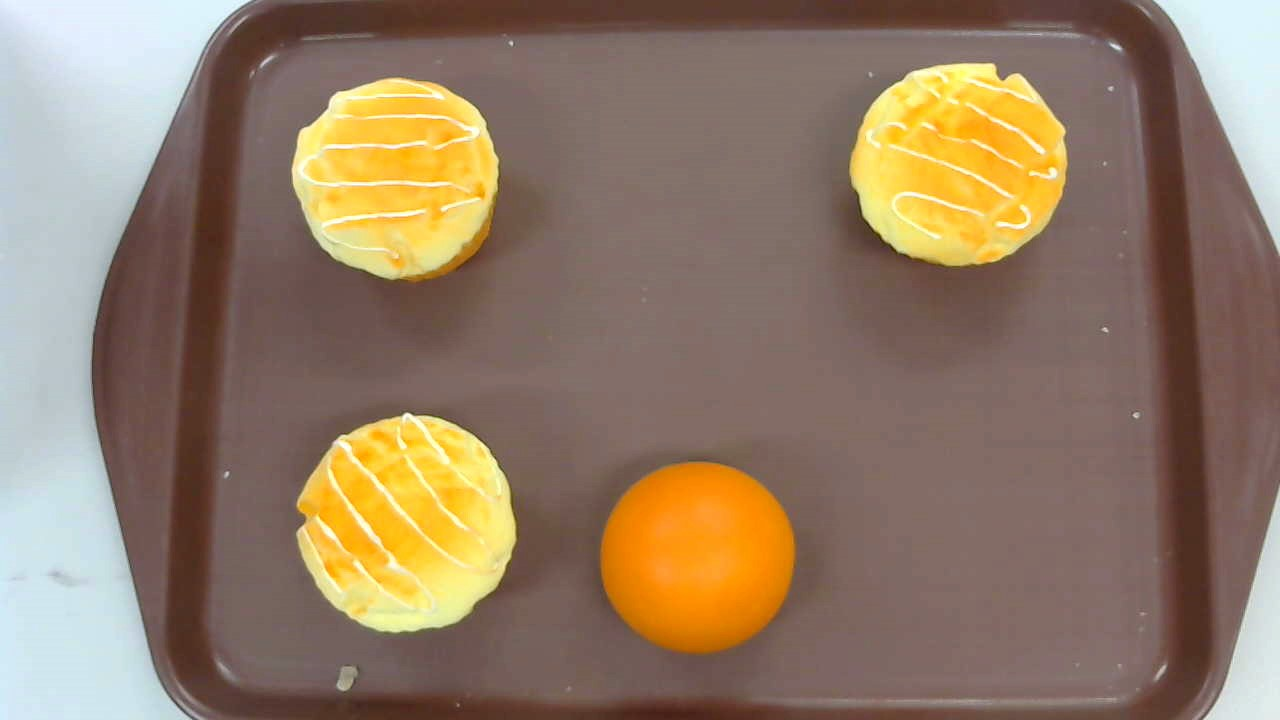bun: (601, 459, 795, 654)
cupcake: (296, 411, 518, 634), (849, 61, 1068, 267), (291, 77, 499, 284)
